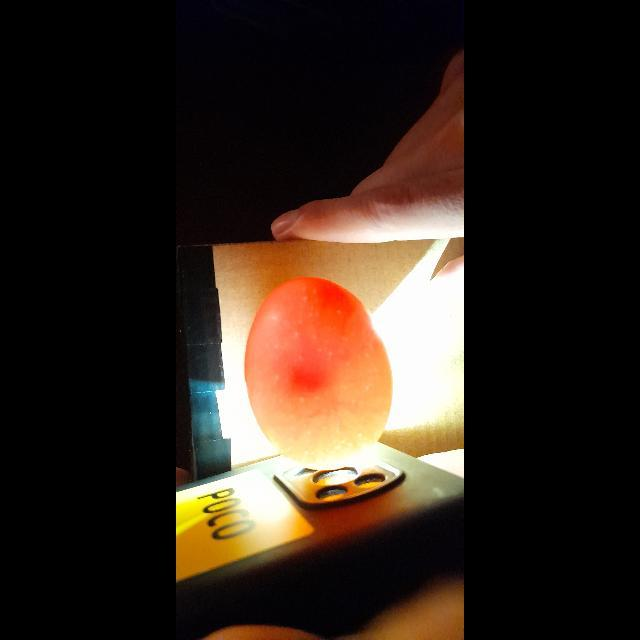Fertile: (239, 277, 395, 473)
